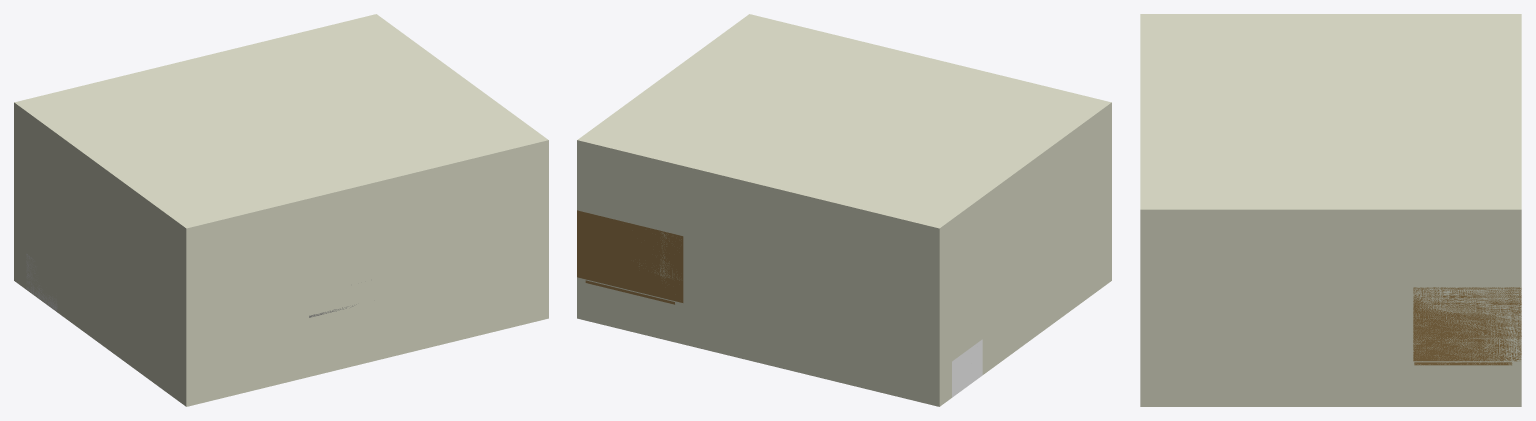
Rendered from DetailedRoom2.fbx.
3 views of the same model, side by side, from view 1: azimuth 30°, elevation 25°; view 2: azimuth 150°, elevation 25°; view 3: azimuth 270°, elevation 25° (orthographic). The views are drawn at different scales.
Visible parts, largest first — view 1: ZimmerWand; view 2: ZimmerWand, Tischregal, Nachtschränkchen; view 3: ZimmerWand, Tischregal, Tischplatte.
Boxes of the visible parts, bbox=[...] form: ZimmerWand: bbox=[14, 14, 548, 406]; ZimmerWand: bbox=[577, 14, 1111, 406]; Tischregal: bbox=[577, 210, 683, 302]; Nachtschränkchen: bbox=[952, 339, 982, 397]; ZimmerWand: bbox=[1140, 14, 1521, 406]; Tischregal: bbox=[1413, 287, 1521, 361]; Tischplatte: bbox=[1414, 362, 1512, 365].
Size of the model in its own units: 6800 by 3203 by 5600.
